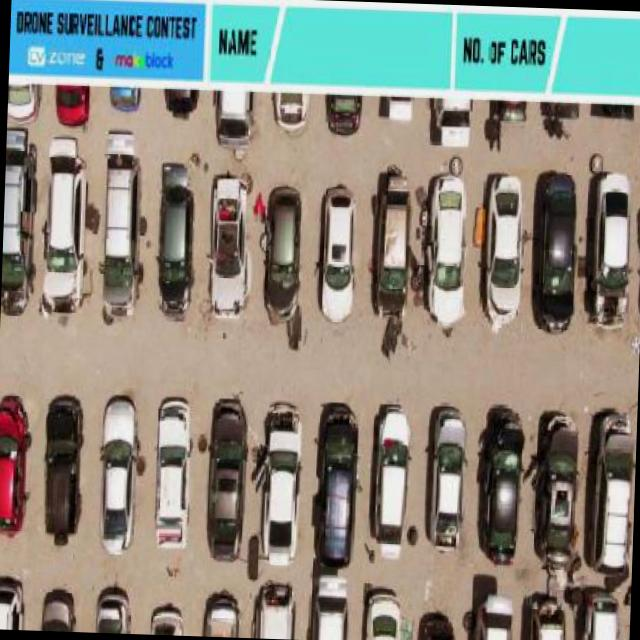car: (530, 168, 582, 330), (40, 136, 88, 310), (99, 144, 148, 314), (200, 397, 250, 562), (155, 154, 204, 316), (313, 404, 362, 565), (96, 394, 144, 558), (591, 410, 637, 580), (530, 412, 580, 568), (588, 169, 638, 325), (476, 412, 524, 566), (424, 168, 470, 328), (40, 392, 88, 544), (152, 395, 198, 552), (204, 173, 251, 322), (482, 170, 526, 328), (370, 405, 414, 562), (261, 402, 303, 564), (424, 406, 466, 554), (370, 165, 410, 320), (261, 180, 305, 320), (1, 130, 36, 306), (318, 183, 360, 319), (0, 390, 34, 530), (309, 562, 353, 638), (250, 575, 298, 637), (211, 86, 257, 146), (359, 581, 401, 640), (523, 590, 566, 640), (197, 588, 240, 637), (94, 586, 134, 634), (475, 593, 514, 640), (584, 592, 622, 640), (324, 92, 366, 135), (270, 90, 310, 134), (38, 588, 76, 632), (55, 83, 92, 126), (0, 572, 25, 629), (414, 608, 457, 640), (144, 602, 184, 636), (7, 84, 40, 125), (160, 85, 196, 116), (381, 96, 416, 125), (107, 86, 141, 112)
